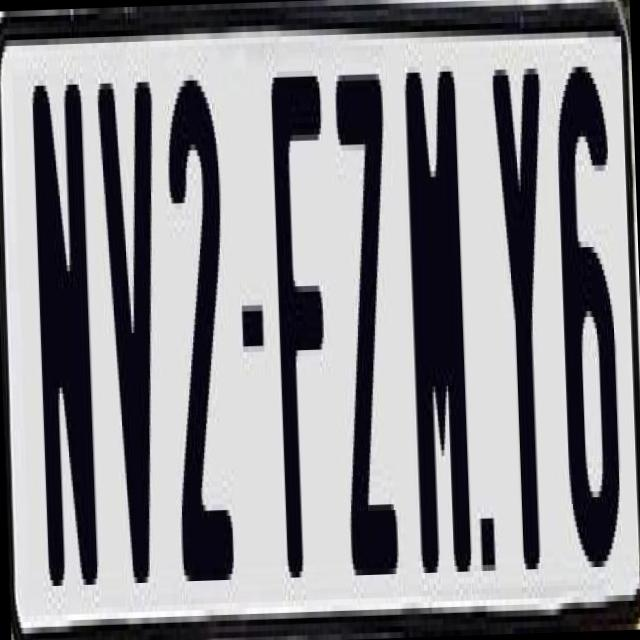2: (164, 61, 237, 593)
6: (551, 59, 620, 596)
F: (270, 58, 344, 560)
M: (399, 71, 468, 578)
N: (32, 84, 102, 616)
V: (96, 75, 171, 613)
Y: (489, 62, 558, 581)
Z: (332, 68, 402, 581)
